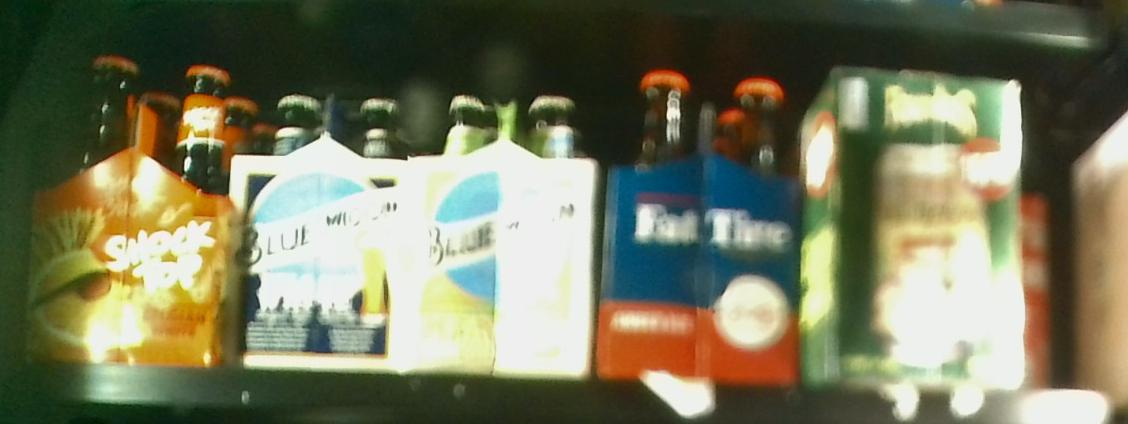bottle: (239, 90, 592, 381), (799, 68, 1027, 387), (28, 46, 233, 370), (602, 63, 792, 381)
